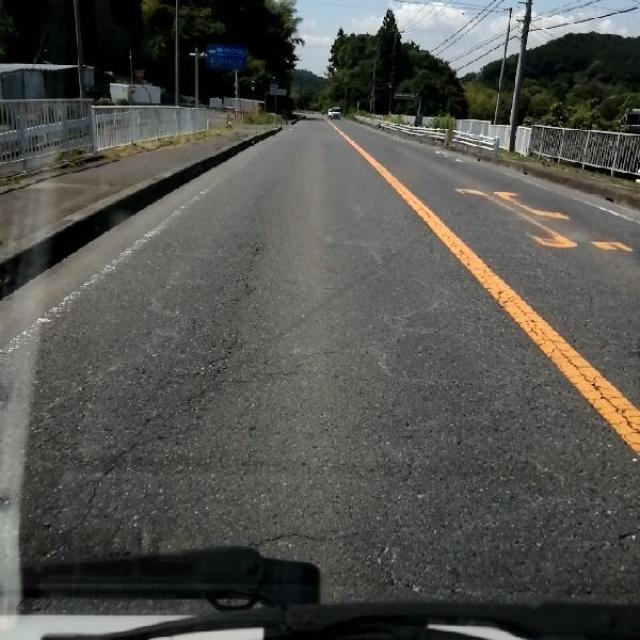Crack: (128, 184, 308, 497)
